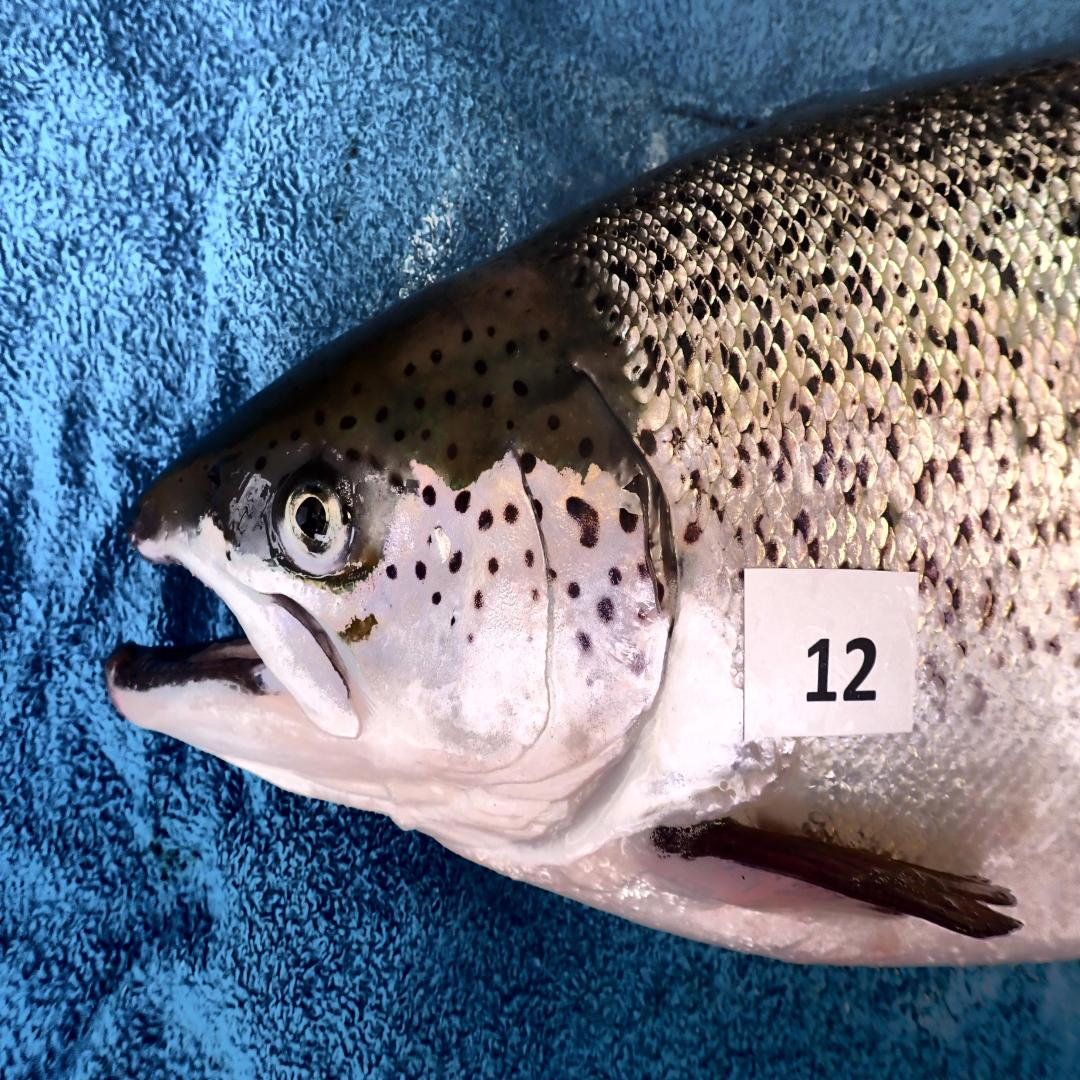spot: (567, 498, 599, 548), (629, 650, 648, 678), (597, 596, 614, 622), (620, 509, 637, 532), (519, 453, 536, 475), (576, 630, 593, 652), (456, 489, 470, 515), (479, 509, 494, 529), (504, 503, 519, 523), (449, 551, 462, 574), (637, 560, 650, 582), (422, 487, 437, 506), (637, 605, 652, 622), (610, 565, 622, 585), (567, 582, 580, 599), (532, 498, 542, 520), (416, 560, 426, 579), (487, 557, 498, 574), (546, 565, 557, 582), (525, 548, 534, 568), (532, 588, 542, 605), (386, 565, 397, 579), (475, 591, 483, 610), (432, 591, 441, 605), (527, 633, 534, 644), (467, 632, 474, 643), (451, 616, 455, 626), (427, 534, 431, 544)
